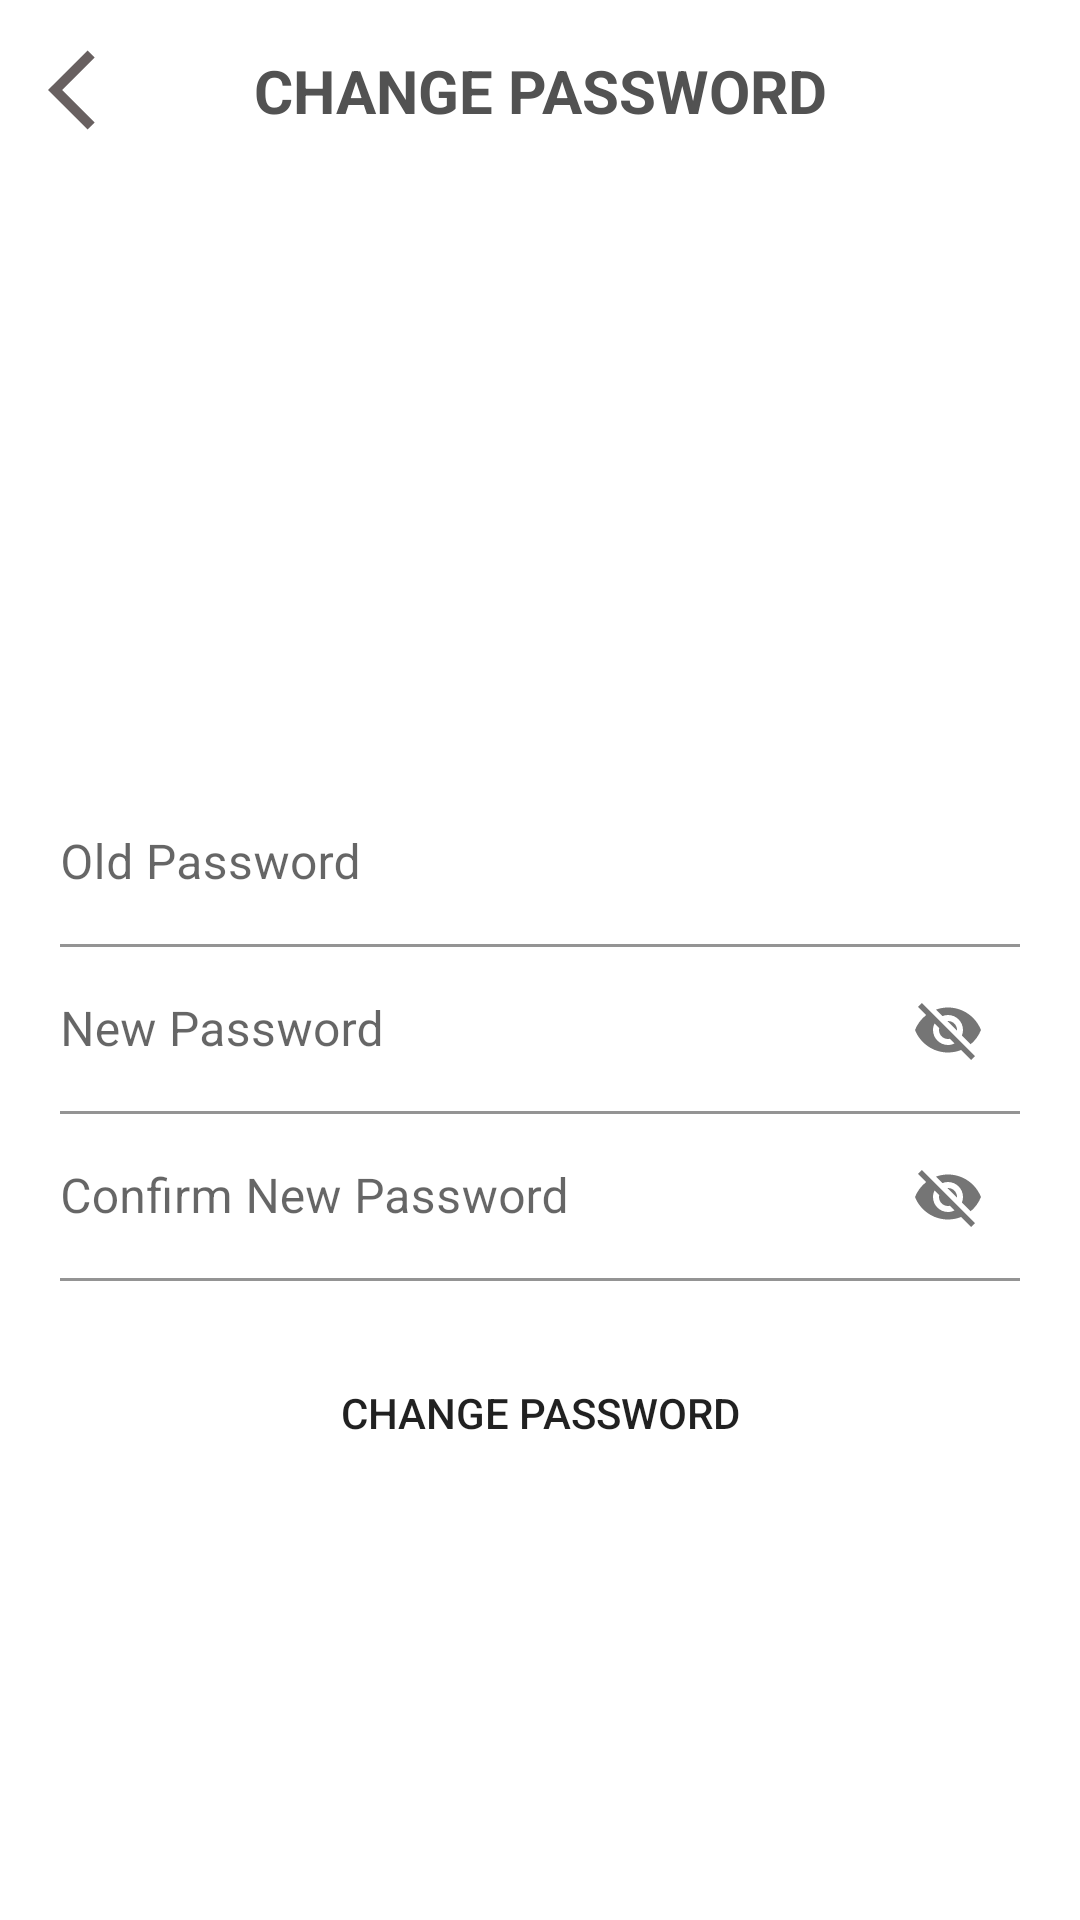

Where to tap for icons on this 1080w x 1920h app screen, as (x,y):
arrow back: (71,90)
